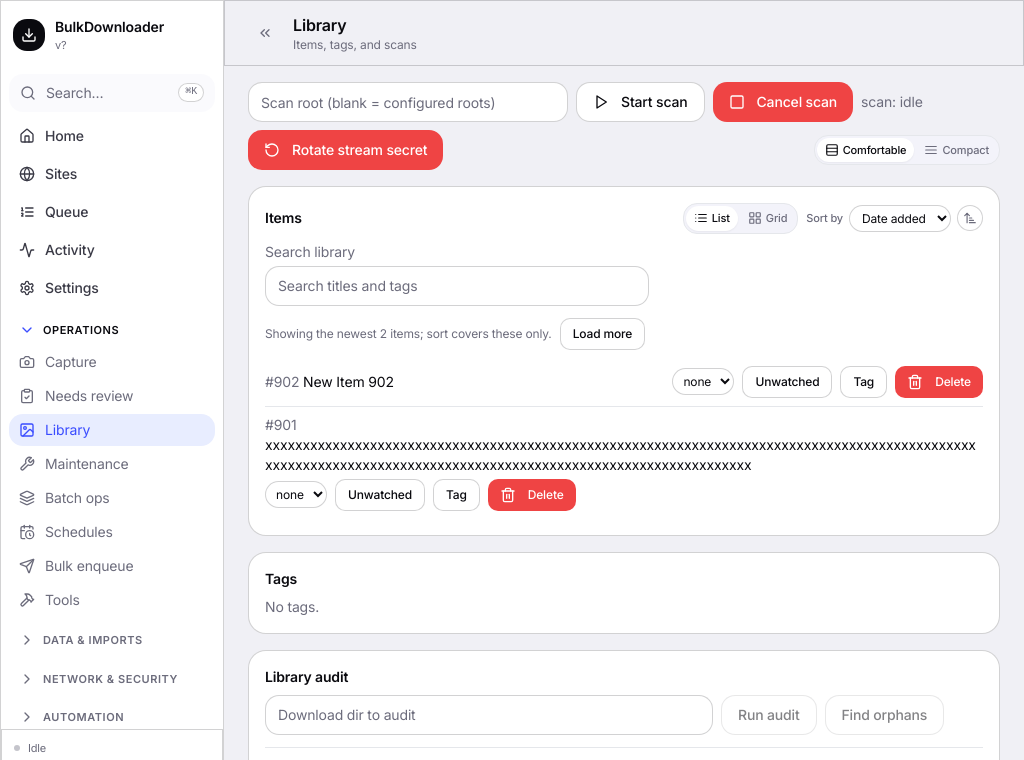
Scenario: sltm-fix Library: items beyond the first page › F1 search finds an item older than the loaded page by title
Check: the button "New Item 902" is shown, box [303,372,394,392]
Type "Old Item 900" into the search field labelled "Search library" at (457, 286), box [265,266,649,306]
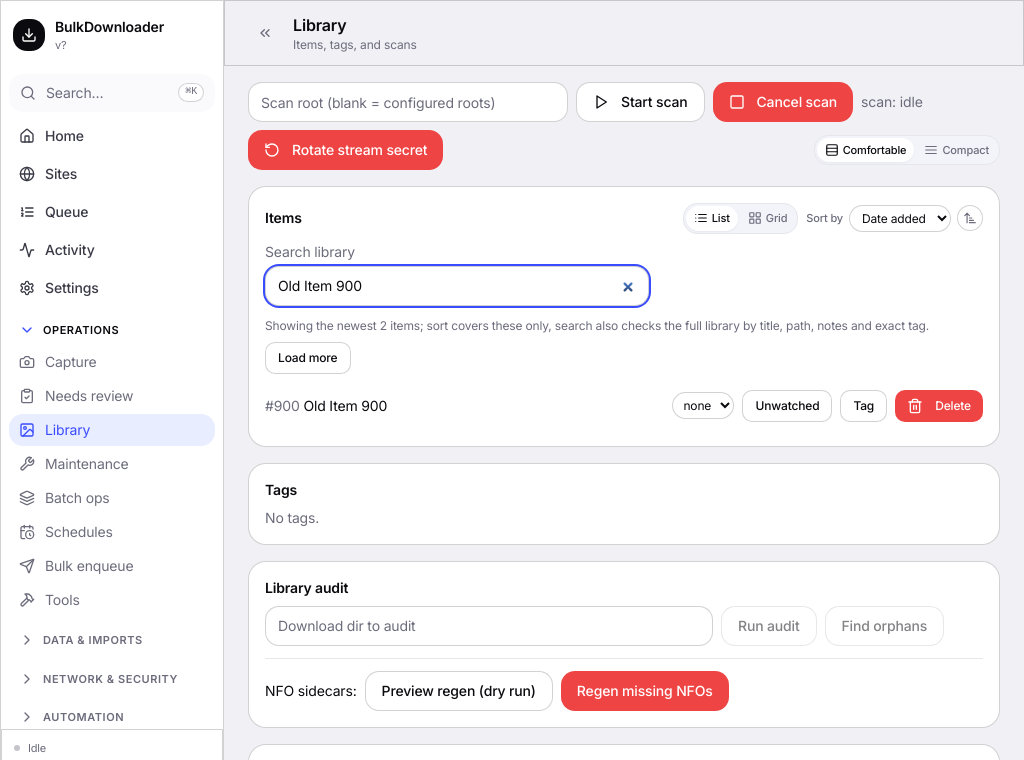
Check: the button "Old Item 900" is shown, box [303,396,387,416]
